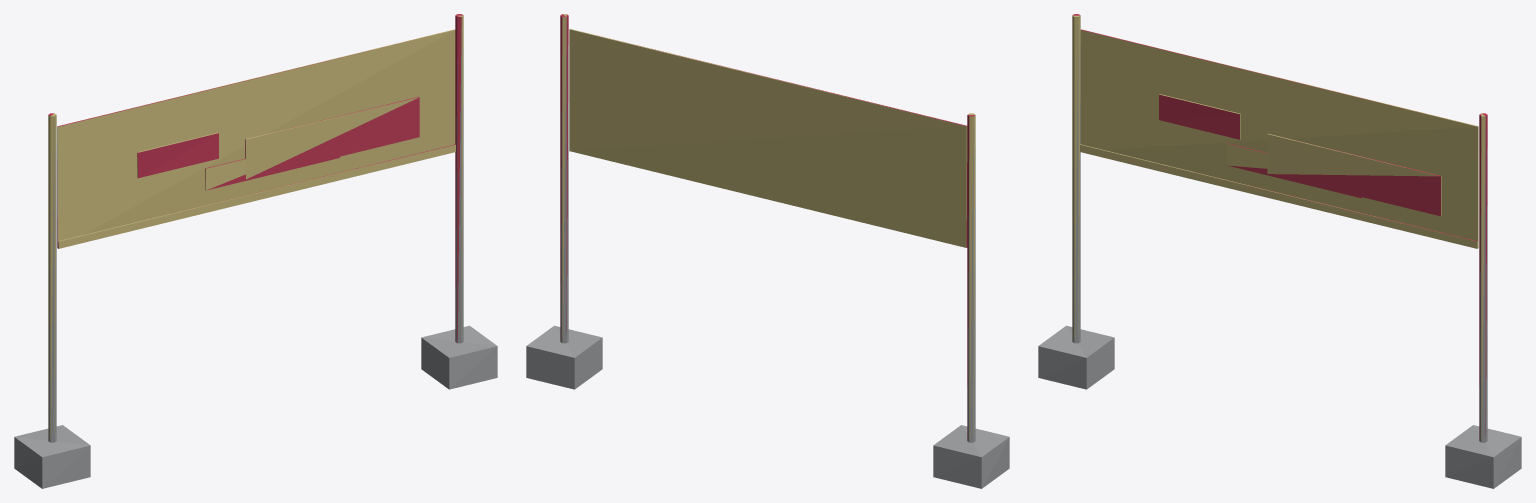
The model's file is banner-pole-00.glb.
3 renders of one model, left to right at view 1: azimuth 30°, elevation 25°; view 2: azimuth 150°, elevation 25°; view 3: azimuth 330°, elevation 25°, orthographic.
Visible parts, largest first — view 1: banner_pole_00; view 2: banner_pole_00; view 3: banner_pole_00.
Part boxes in pixels (x1,y1,x2,y2): banner_pole_00: (14, 14, 497, 488); banner_pole_00: (526, 14, 1009, 488); banner_pole_00: (1038, 14, 1521, 488).
Size of the model in its own units: 3.76 by 2.82 by 0.4001.
